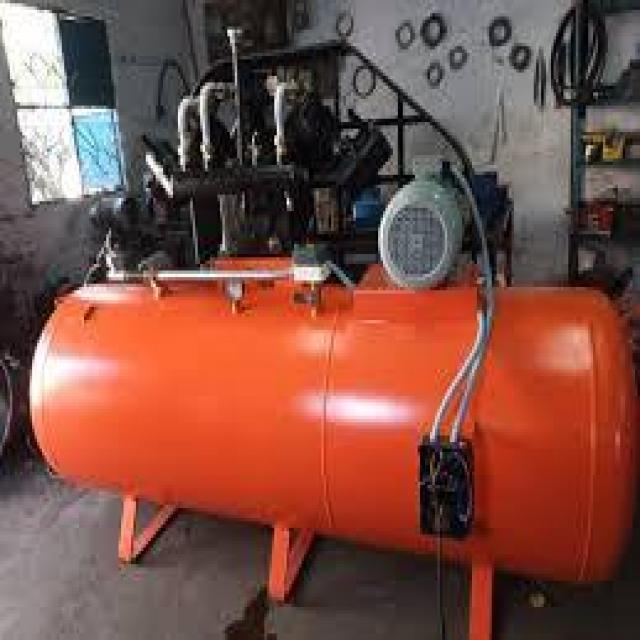compressor: (2, 88, 638, 631)
